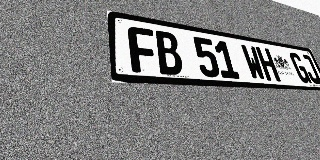1: (212, 39, 240, 79)
5: (192, 36, 222, 78)
B: (153, 30, 185, 75)
F: (127, 26, 159, 74)
G: (288, 52, 312, 83)
H: (255, 47, 281, 81)
J: (299, 54, 320, 84)
W: (240, 44, 267, 81)
